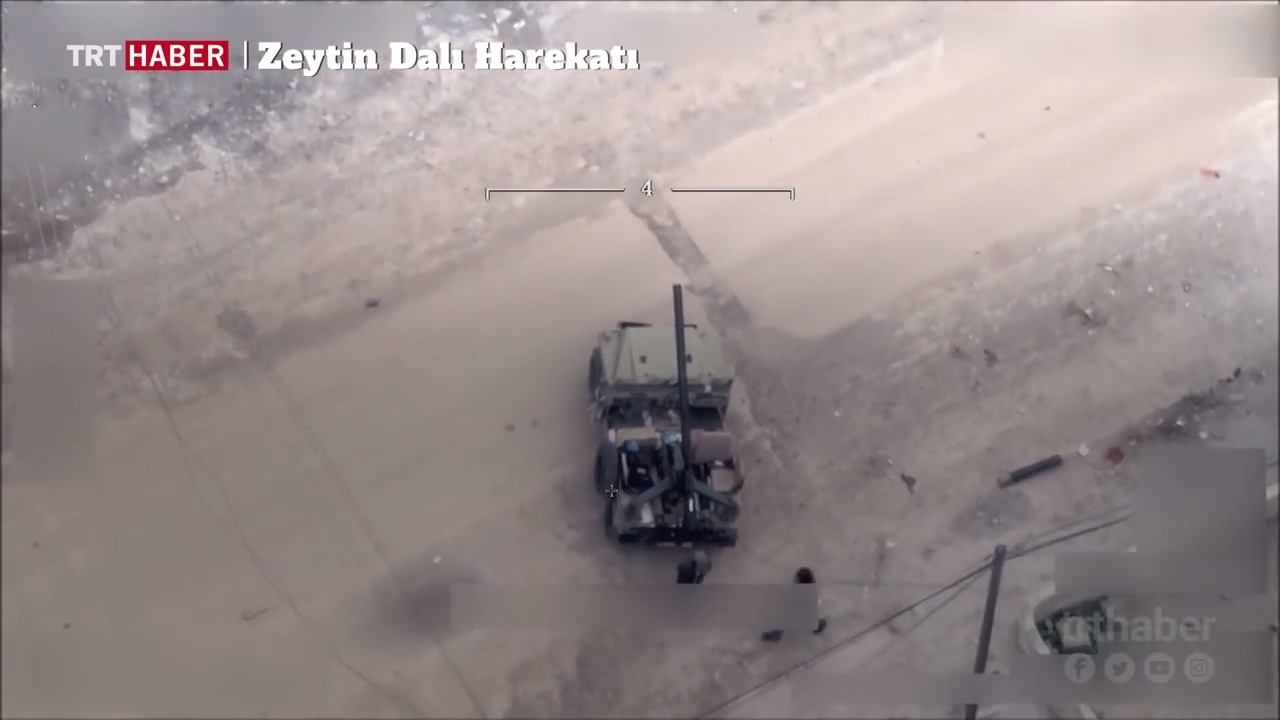arac: (594, 286, 755, 549)
